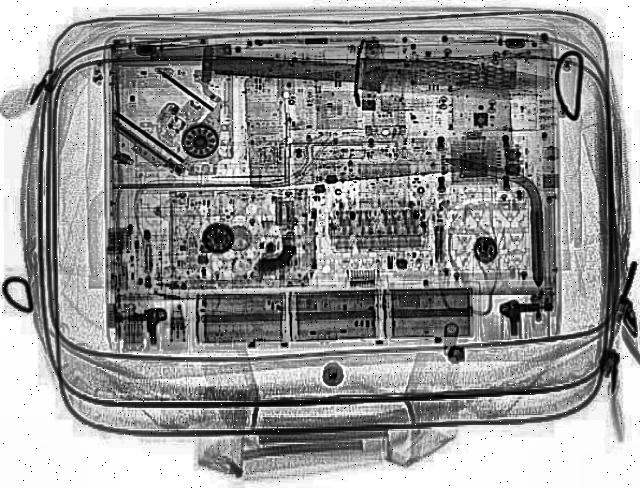Knife: (213, 50, 561, 104)
